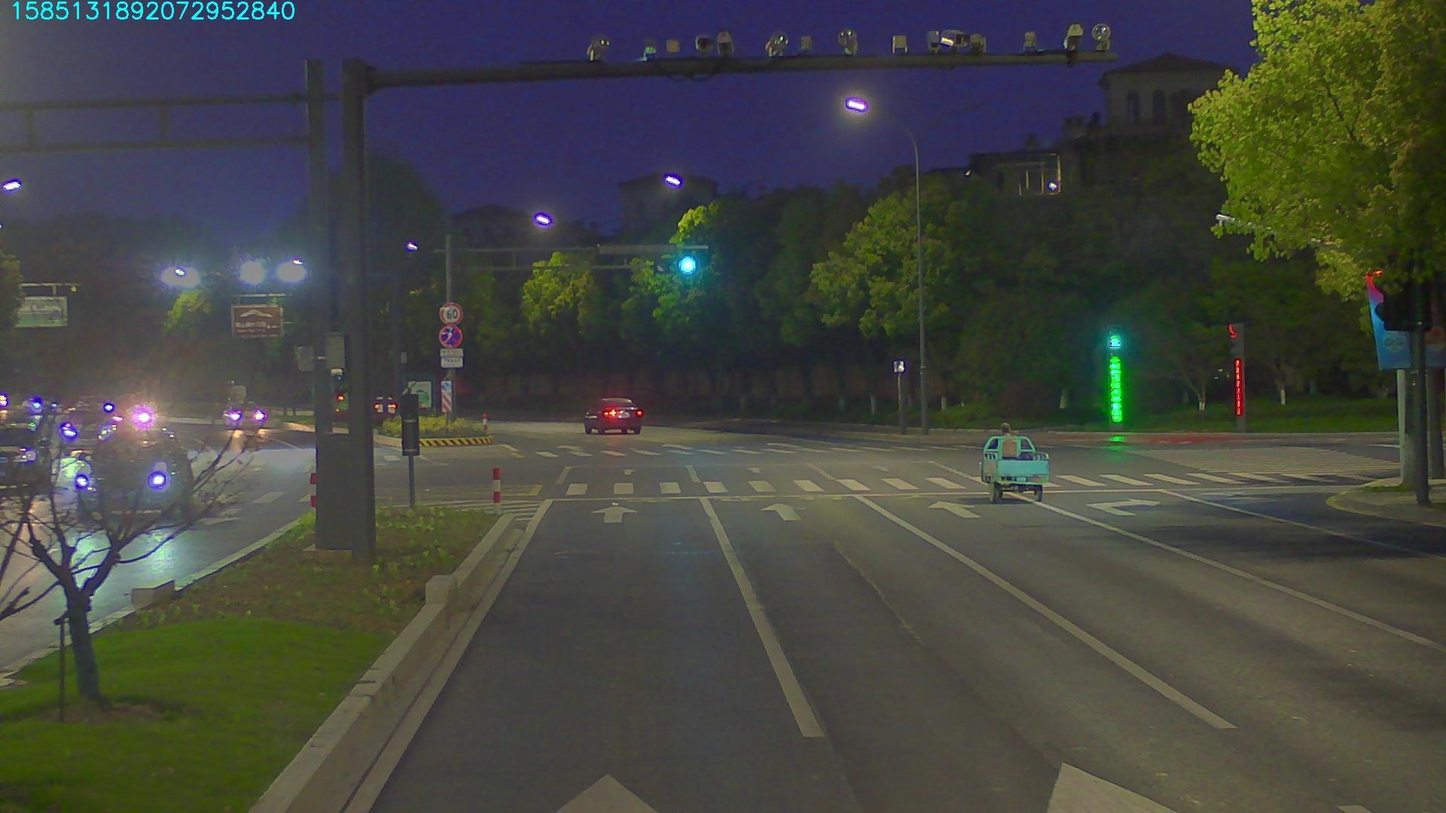green: (667, 257, 698, 270)
